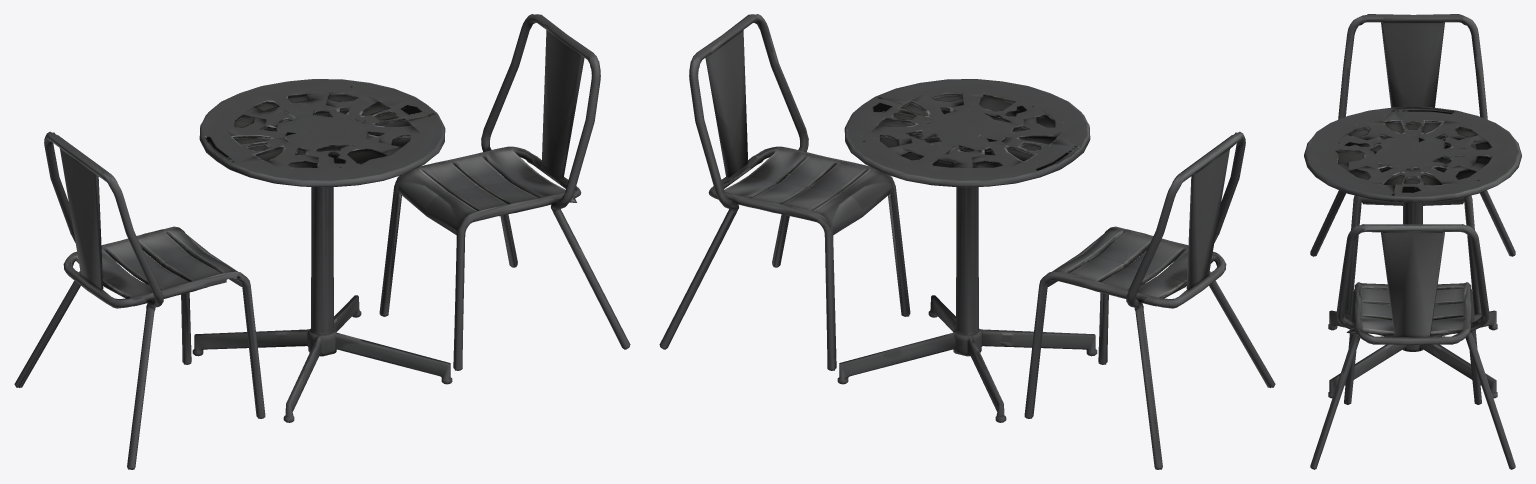
Rendered from Meshy_AI_Cafe_Seating_Set_0107195658_texture.fbx.
The picture shows the model from 3 angles, left to right: view 1: azimuth 30°, elevation 25°; view 2: azimuth 150°, elevation 25°; view 3: azimuth 270°, elevation 25°; orthographic projection. The views are drawn at different scales.
Parts seen in each view (by area): view 1: Mesh_0; view 2: Mesh_0; view 3: Mesh_0.
Part boxes in pixels (x1,y1,x2,y2): Mesh_0: (14,14,630,469); Mesh_0: (659,14,1275,469); Mesh_0: (1304,14,1521,469).
Bounding box in the file's own units: 191 × 99.8 × 81.02.
Materials: 1 (1 with a texture image).
